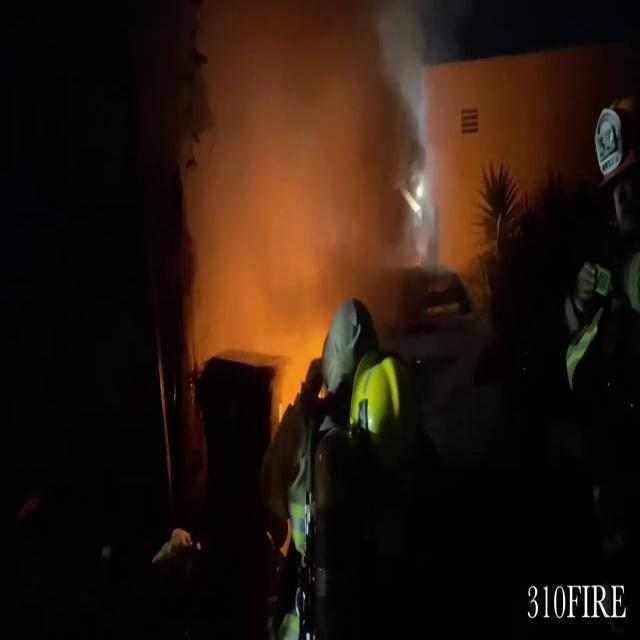Smoke: (164, 0, 456, 338)
